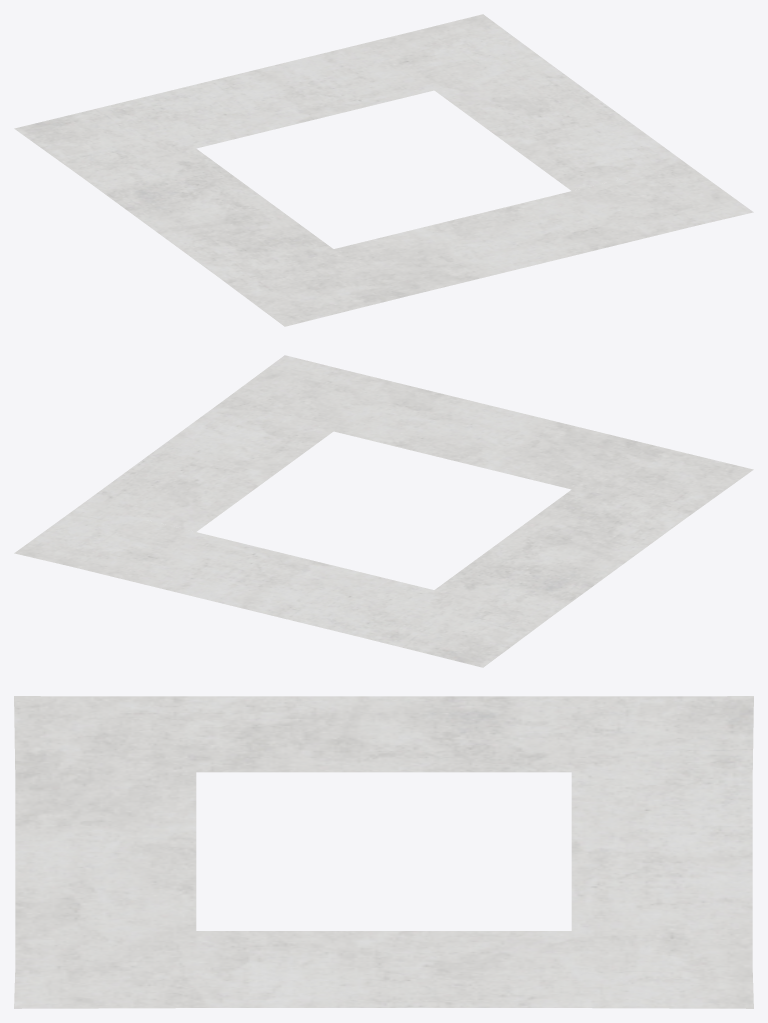
Rendered from museumfloor2.glb.
3 renders of one model, top to bottom at view 1: azimuth 30°, elevation 25°; view 2: azimuth 150°, elevation 25°; view 3: azimuth 270°, elevation 25°, orthographic. The views are drawn at different scales.
Parts seen in each view (by area): view 1: Cube.004; view 2: Cube.004; view 3: Cube.004.
Part boxes in pixels (left/top/right/bottom): Cube.004: left=14, top=14, right=753, bottom=326; Cube.004: left=14, top=355, right=753, bottom=667; Cube.004: left=14, top=696, right=753, bottom=1008.
Bounding box in the file's own units: 39.42 × 0.0555 × 39.42.
1 material, 1 textured.
